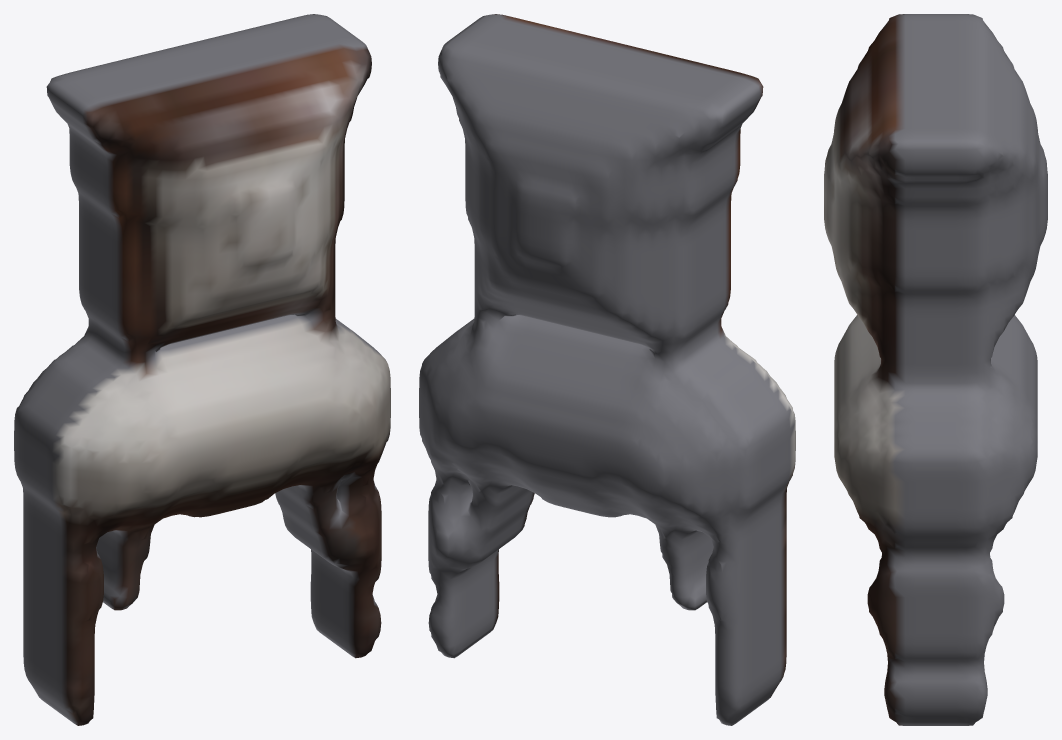
The model's file is runtime.glb.
3 views of the same model, side by side, from view 1: azimuth 30°, elevation 25°; view 2: azimuth 150°, elevation 25°; view 3: azimuth 270°, elevation 25° (orthographic). The views are drawn at different scales.
Visible parts, largest first — view 1: reconstruction; view 2: reconstruction; view 3: reconstruction.
Part boxes in pixels (x1,y1,x2,y2): reconstruction: (14, 14, 390, 725); reconstruction: (419, 14, 795, 725); reconstruction: (824, 14, 1047, 725).
Size of the model in its own units: 0.5625 by 0.9948 by 0.3438.
